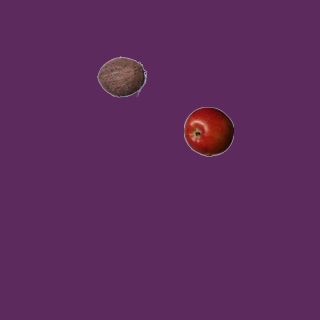Apple Braeburn: (183, 106, 233, 156)
Cocos: (96, 51, 146, 101)
